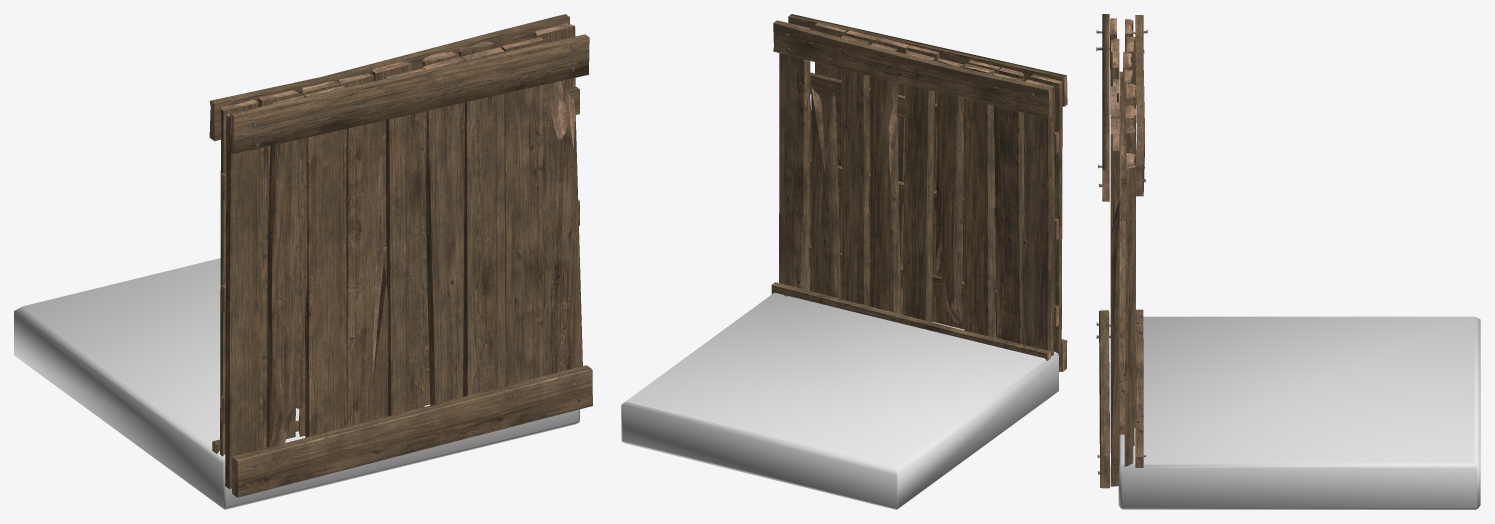
The model's file is SM_Wall_3x3_B.fbx.
The picture shows the model from 3 angles, left to right: view 1: azimuth 30°, elevation 25°; view 2: azimuth 150°, elevation 25°; view 3: azimuth 270°, elevation 25°; orthographic projection. The views are drawn at different scales.
Visible parts, largest first — view 1: SM_Wall_3x3_B, SM_Wall_3x3_B_ConvexHulls; view 2: SM_Wall_3x3_B, SM_Wall_3x3_B_ConvexHulls; view 3: SM_Wall_3x3_B_ConvexHulls, SM_Wall_3x3_B.
Boxes of the visible parts, x1=… form: SM_Wall_3x3_B: x1=209, y1=14, x2=592, y2=497; SM_Wall_3x3_B_ConvexHulls: x1=14, y1=258, x2=579, y2=509; SM_Wall_3x3_B: x1=771, y1=14, x2=1067, y2=372; SM_Wall_3x3_B_ConvexHulls: x1=621, y1=292, x2=1058, y2=509; SM_Wall_3x3_B_ConvexHulls: x1=1118, y1=316, x2=1480, y2=509; SM_Wall_3x3_B: x1=1096, y1=14, x2=1147, y2=488.
Size of the model in its own units: 3.03 by 3.25 by 3.26.
